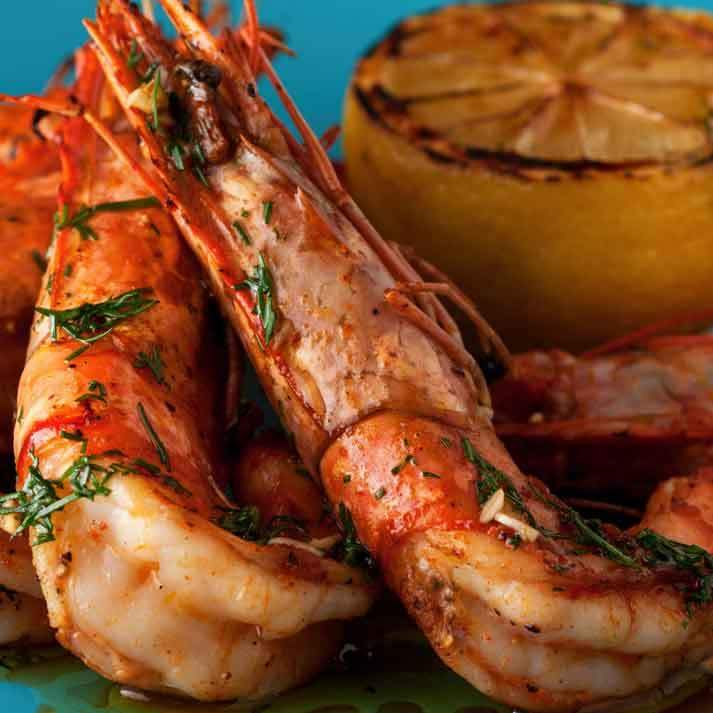Red Prawn: (132, 41, 707, 694), (37, 54, 310, 697)
